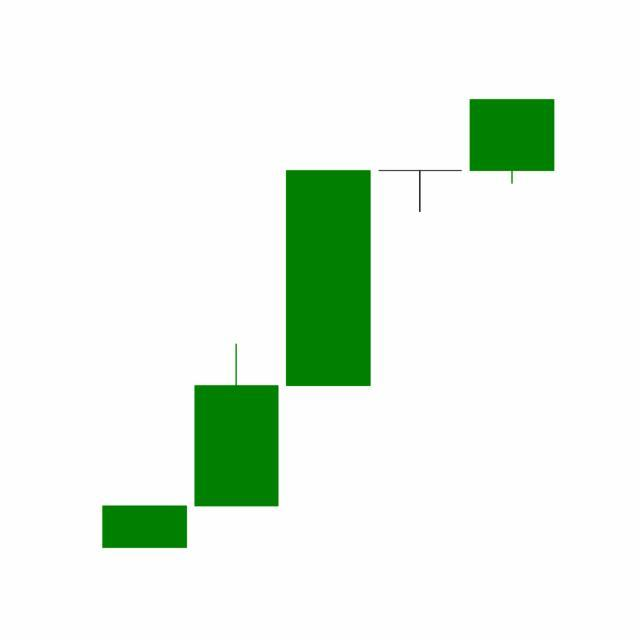Hanging Man: (374, 170, 468, 213)
